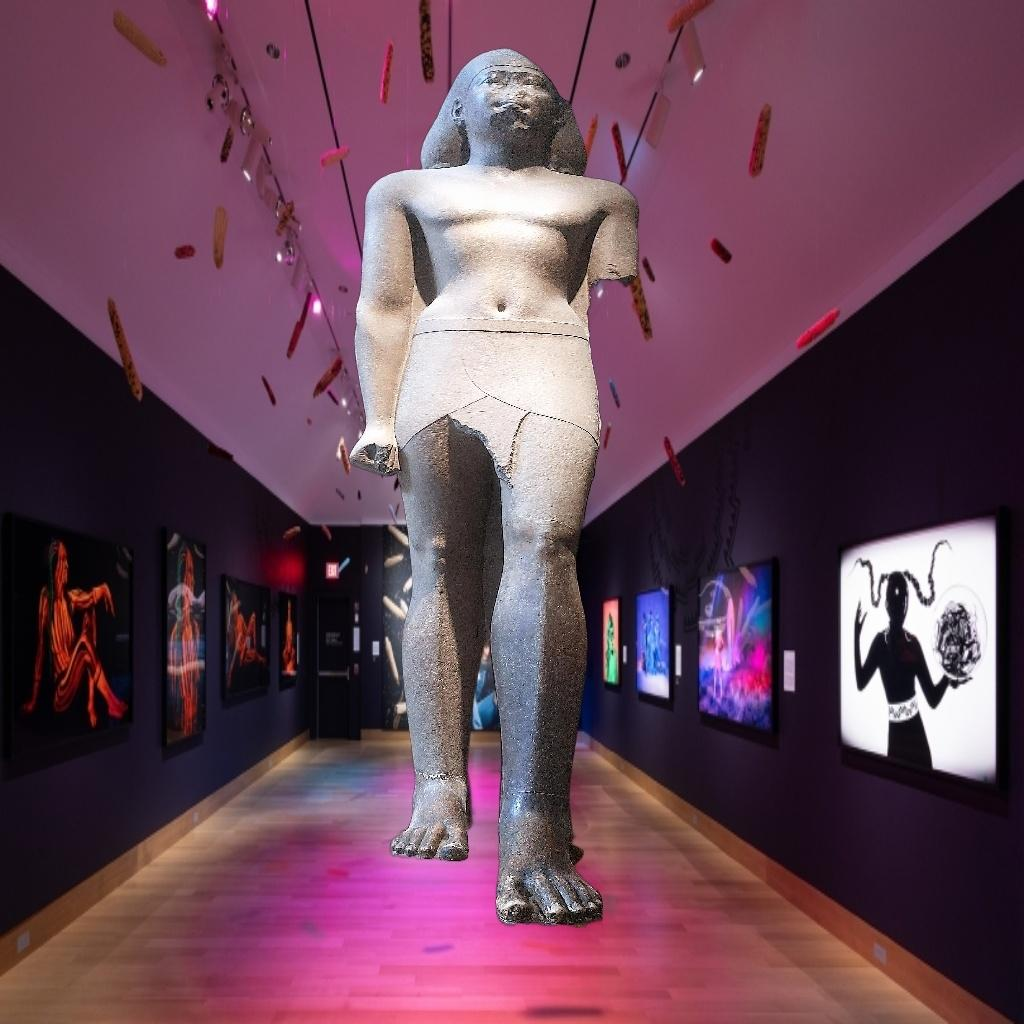Colossal Statue of Hormoheb: (342, 44, 646, 928)
